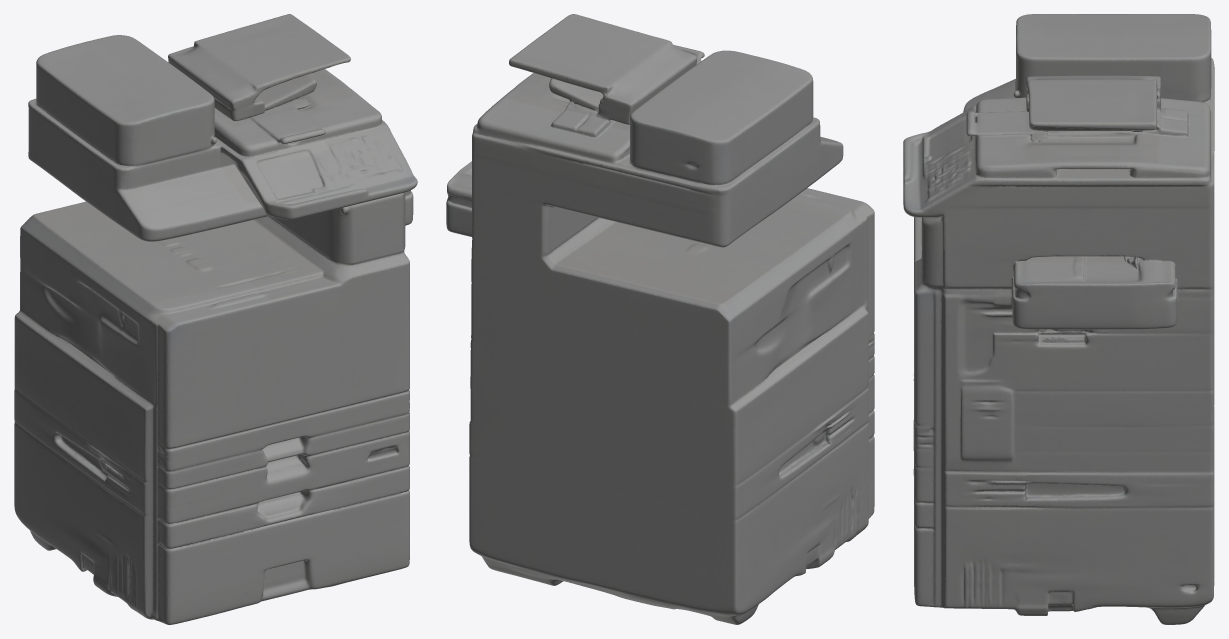
The model's file is office printer 3d model.glb.
3 views of the same model, side by side, from view 1: azimuth 30°, elevation 25°; view 2: azimuth 150°, elevation 25°; view 3: azimuth 270°, elevation 25° (orthographic). The views are drawn at different scales.
Parts seen in each view (by area): view 1: tripo_node_7b562345-f629-46af-95ff-4e127ec20dd1; view 2: tripo_node_7b562345-f629-46af-95ff-4e127ec20dd1; view 3: tripo_node_7b562345-f629-46af-95ff-4e127ec20dd1.
Part boxes in pixels (box(x1,y1,x2,y2)): tripo_node_7b562345-f629-46af-95ff-4e127ec20dd1: box(14, 14, 417, 624); tripo_node_7b562345-f629-46af-95ff-4e127ec20dd1: box(446, 14, 874, 624); tripo_node_7b562345-f629-46af-95ff-4e127ec20dd1: box(903, 14, 1214, 624).
Size of the model in its own units: 0.6609 by 1 by 0.5617.
Materials: 1 (1 with a texture image).
